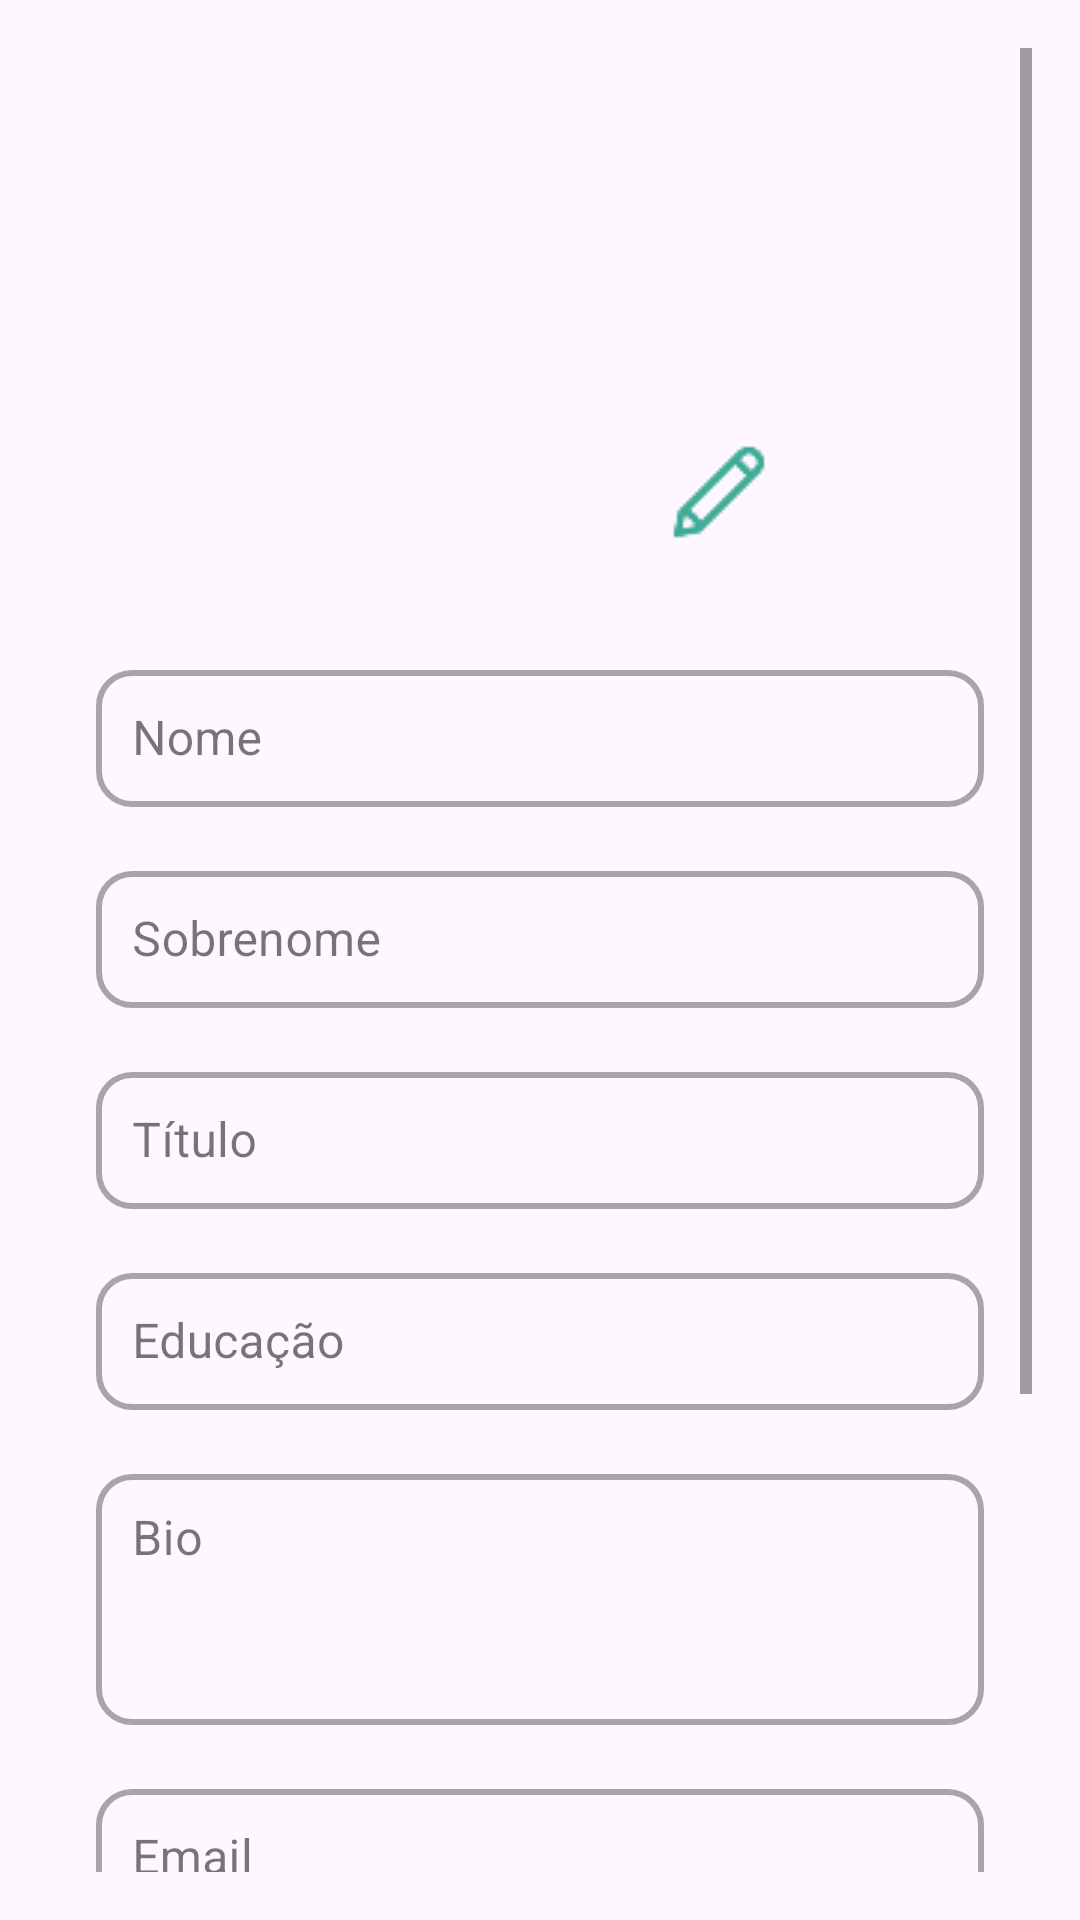

Where icons sit on this 1080x1920 app screen, as (x1, y1, x2, y2):
Editar foto: (673, 446, 765, 538)
